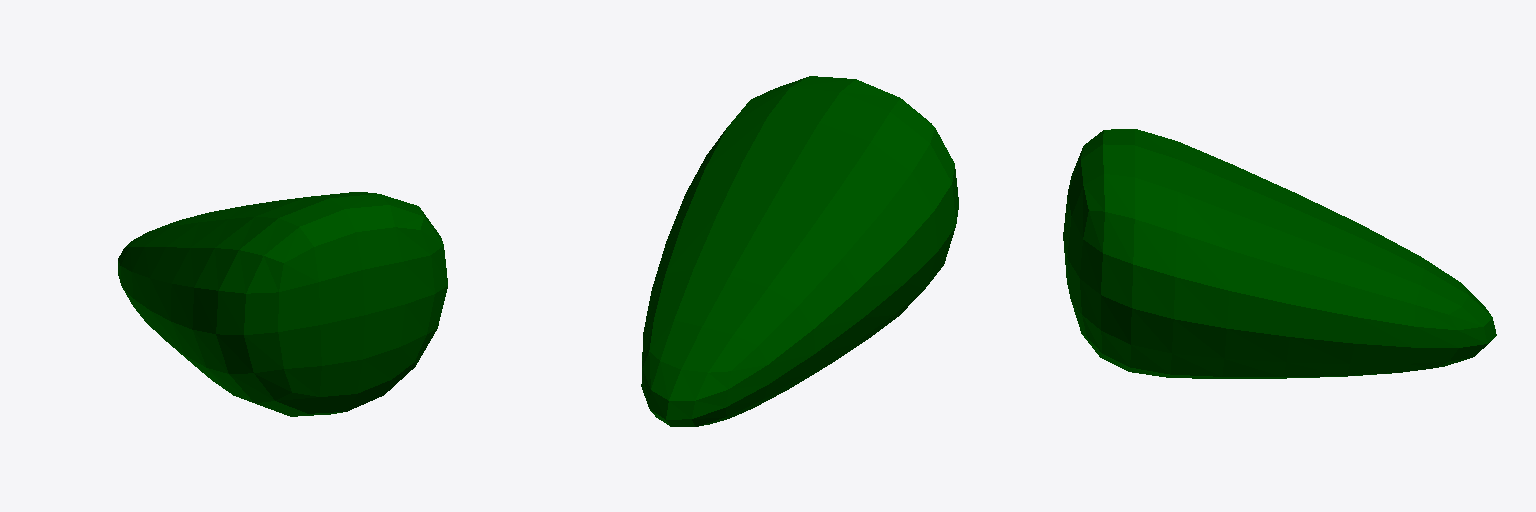
Rendered from worm_tail.obj.
3 views of the same model, side by side, from view 1: azimuth 30°, elevation 25°; view 2: azimuth 150°, elevation 25°; view 3: azimuth 270°, elevation 25° (orthographic).
Visible parts, largest first — view 1: Cubo; view 2: Cubo; view 3: Cubo.
Boxes of the visible parts, <box> form: Cubo: <box>118,192,447,416</box>; Cubo: <box>641,76,958,426</box>; Cubo: <box>1063,129,1496,378</box>.
Bounding box in the file's own units: 1.18 × 1.08 × 1.9.